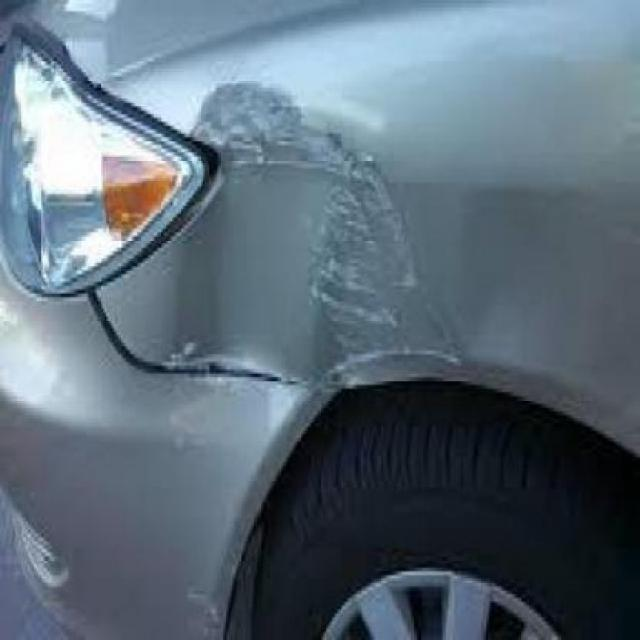damage: (162, 70, 465, 640)
